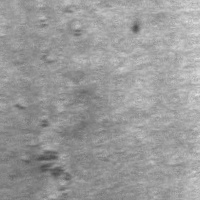rolled-in_scale: (19, 113, 72, 200), (36, 2, 83, 61)
